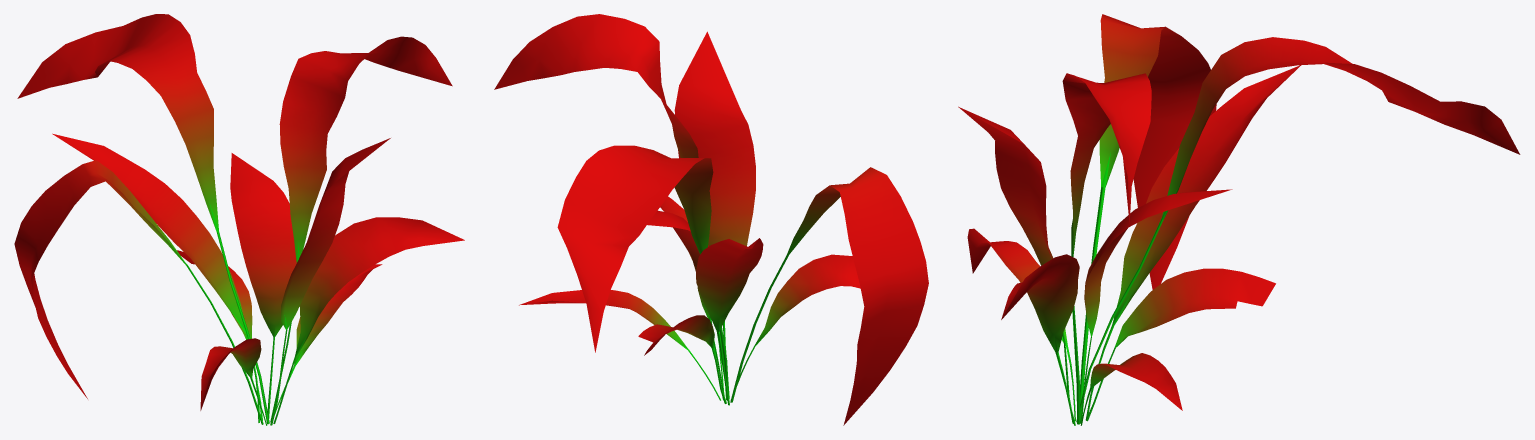
Rendered from Cast - Iron Plant_LOD0_Var6_shdmr.fbx.
The picture shows the model from 3 angles, left to right: view 1: azimuth 30°, elevation 25°; view 2: azimuth 150°, elevation 25°; view 3: azimuth 270°, elevation 25°; orthographic projection. The views are drawn at different scales.
Parts seen in each view (by area): view 1: _77d5_Var6_LOD0; view 2: _77d5_Var6_LOD0; view 3: _77d5_Var6_LOD0.
Part boxes in pixels (x1,y1,x2,y2): _77d5_Var6_LOD0: (14, 14, 464, 425); _77d5_Var6_LOD0: (494, 14, 928, 425); _77d5_Var6_LOD0: (958, 14, 1520, 425).
Size of the model in its own units: 58.82 by 46.67 by 58.18.
